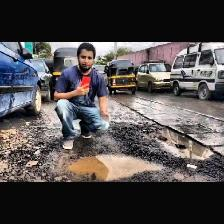pothole: (68, 152, 162, 180), (146, 126, 216, 160)
